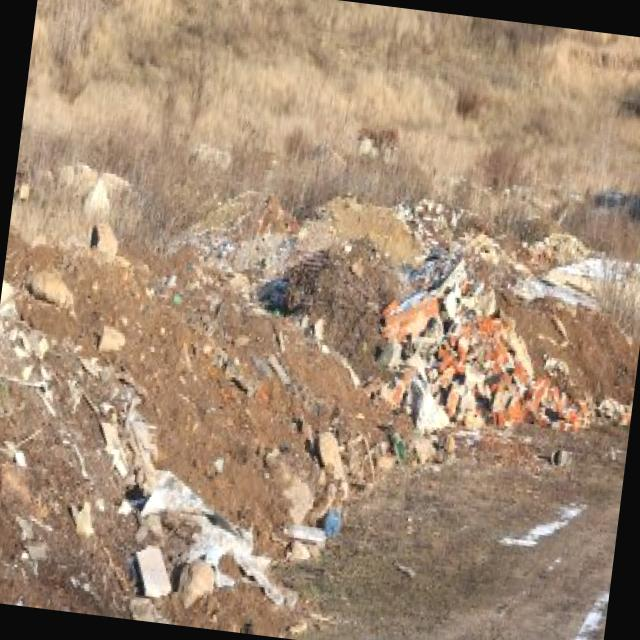garbage: (170, 160, 634, 576)
